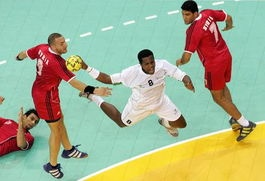falling: (0, 87, 44, 172)
